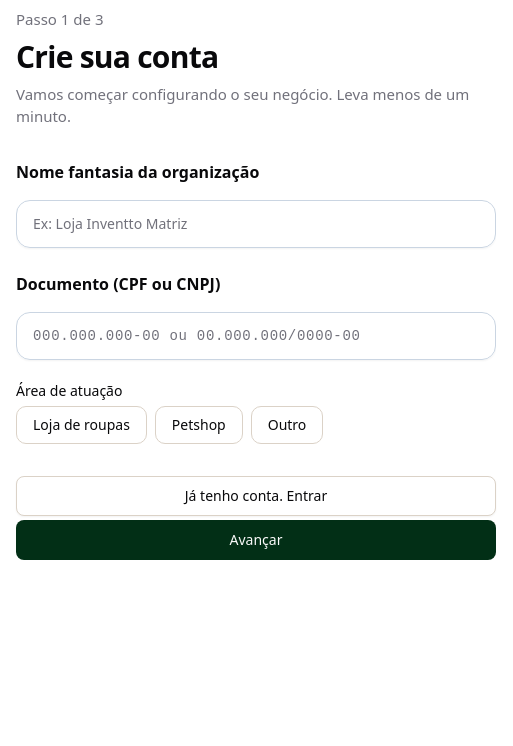
Test: SignUpForm Feature › Integration Tests (UI Flow) › should navigate to Step 2 after valid Step 1
Type "Inventto Tech" into the field labelled "Nome fantasia da organização" at (256, 224), box [16,200,496,248]
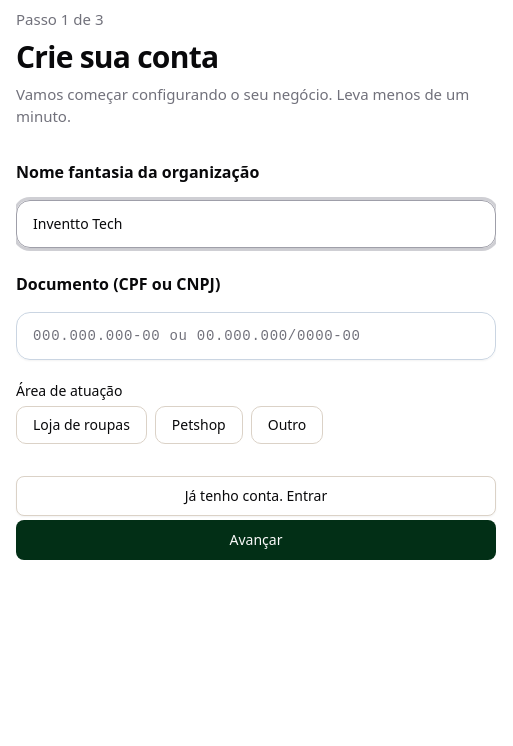
Type "123.456.789-09" into the field labelled "Documento (CPF ou CNPJ)" at (256, 336), box [16,312,496,360]
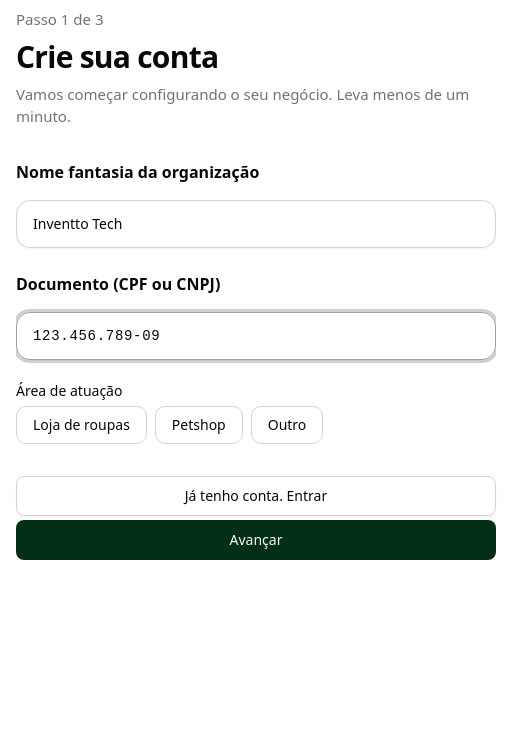
Click the radio button with test id "business-area-option-clothing" at (81, 424), box [16,406,147,444]
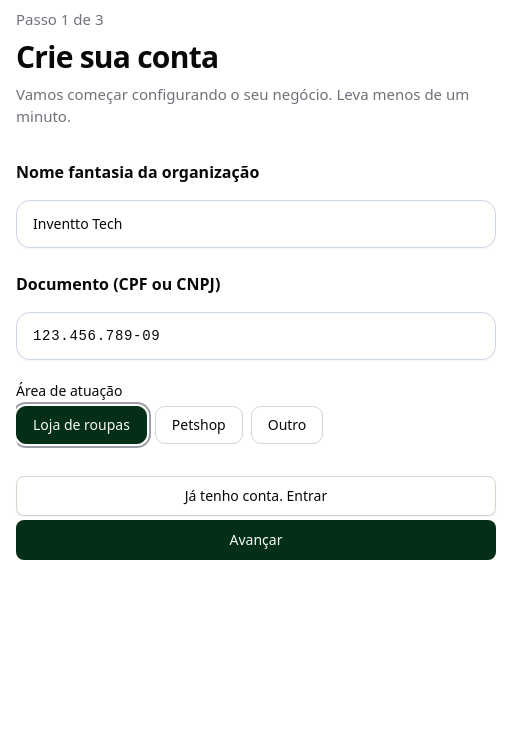
Click the button "Avançar" at (256, 540), box [16,520,496,560]
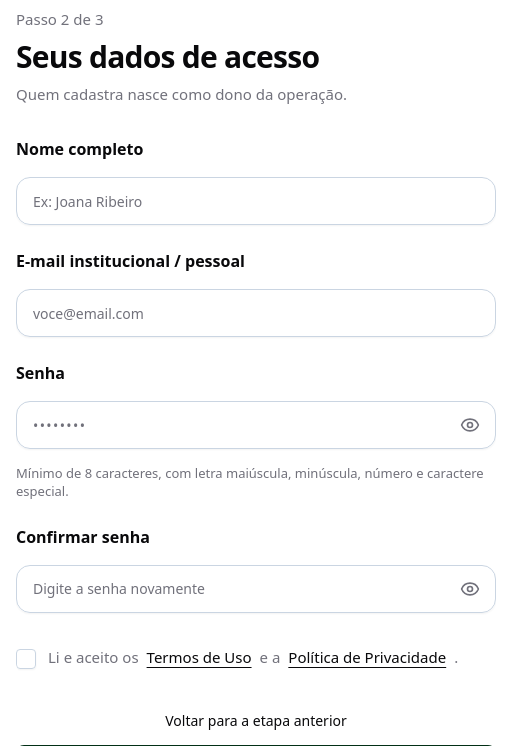
Check: the field labelled "Nome completo" is shown, box [16,177,496,225]
